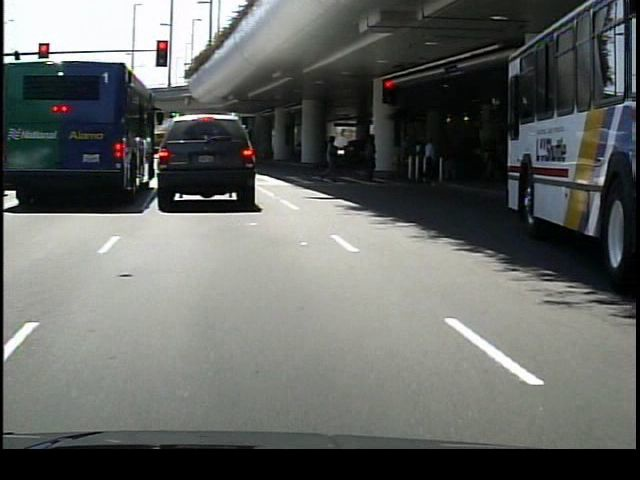person: (359, 130, 385, 185), (318, 132, 345, 184), (417, 135, 440, 190)
